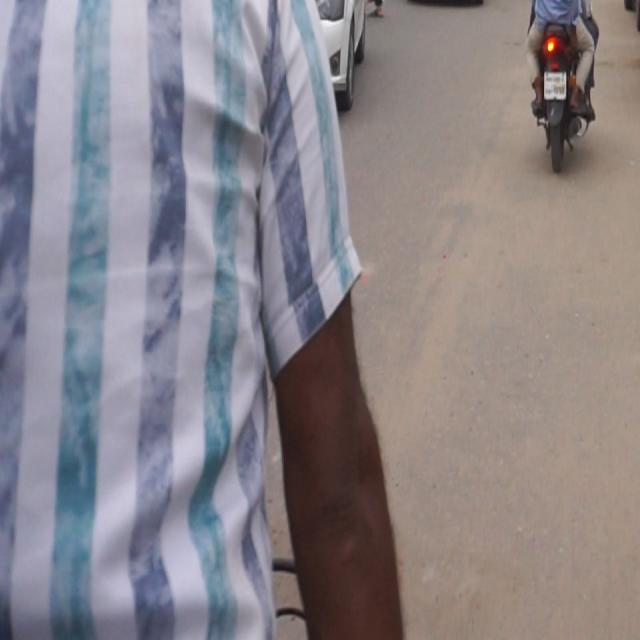motorbike: (511, 0, 618, 203)
